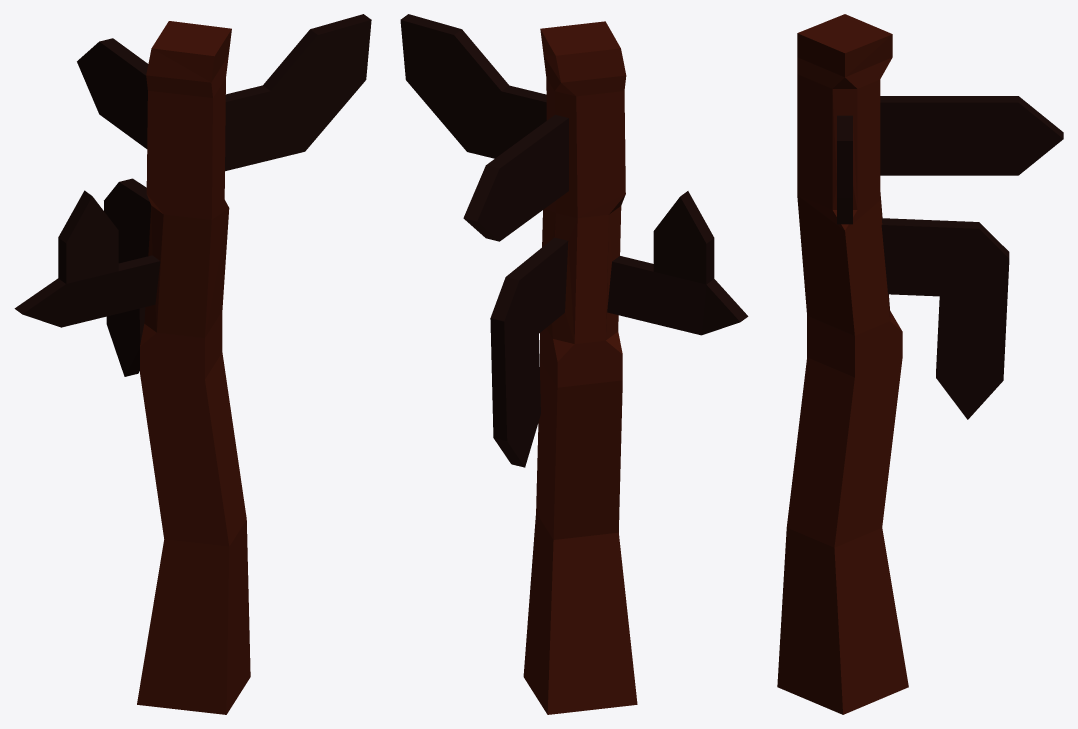
The model's file is prop_directional_sign.FBX.
3 views of the same model, side by side, from view 1: azimuth 30°, elevation 25°; view 2: azimuth 150°, elevation 25°; view 3: azimuth 270°, elevation 25° (orthographic).
Visible parts, largest first — view 1: Box001; view 2: Box001; view 3: Box001.
Boxes of the visible parts, x1,y1,x2,y2 form: Box001: [14, 14, 371, 714]; Box001: [400, 14, 748, 714]; Box001: [777, 14, 1063, 714].
Bounding box in the file's own units: 88.43 × 160 × 63.57.
